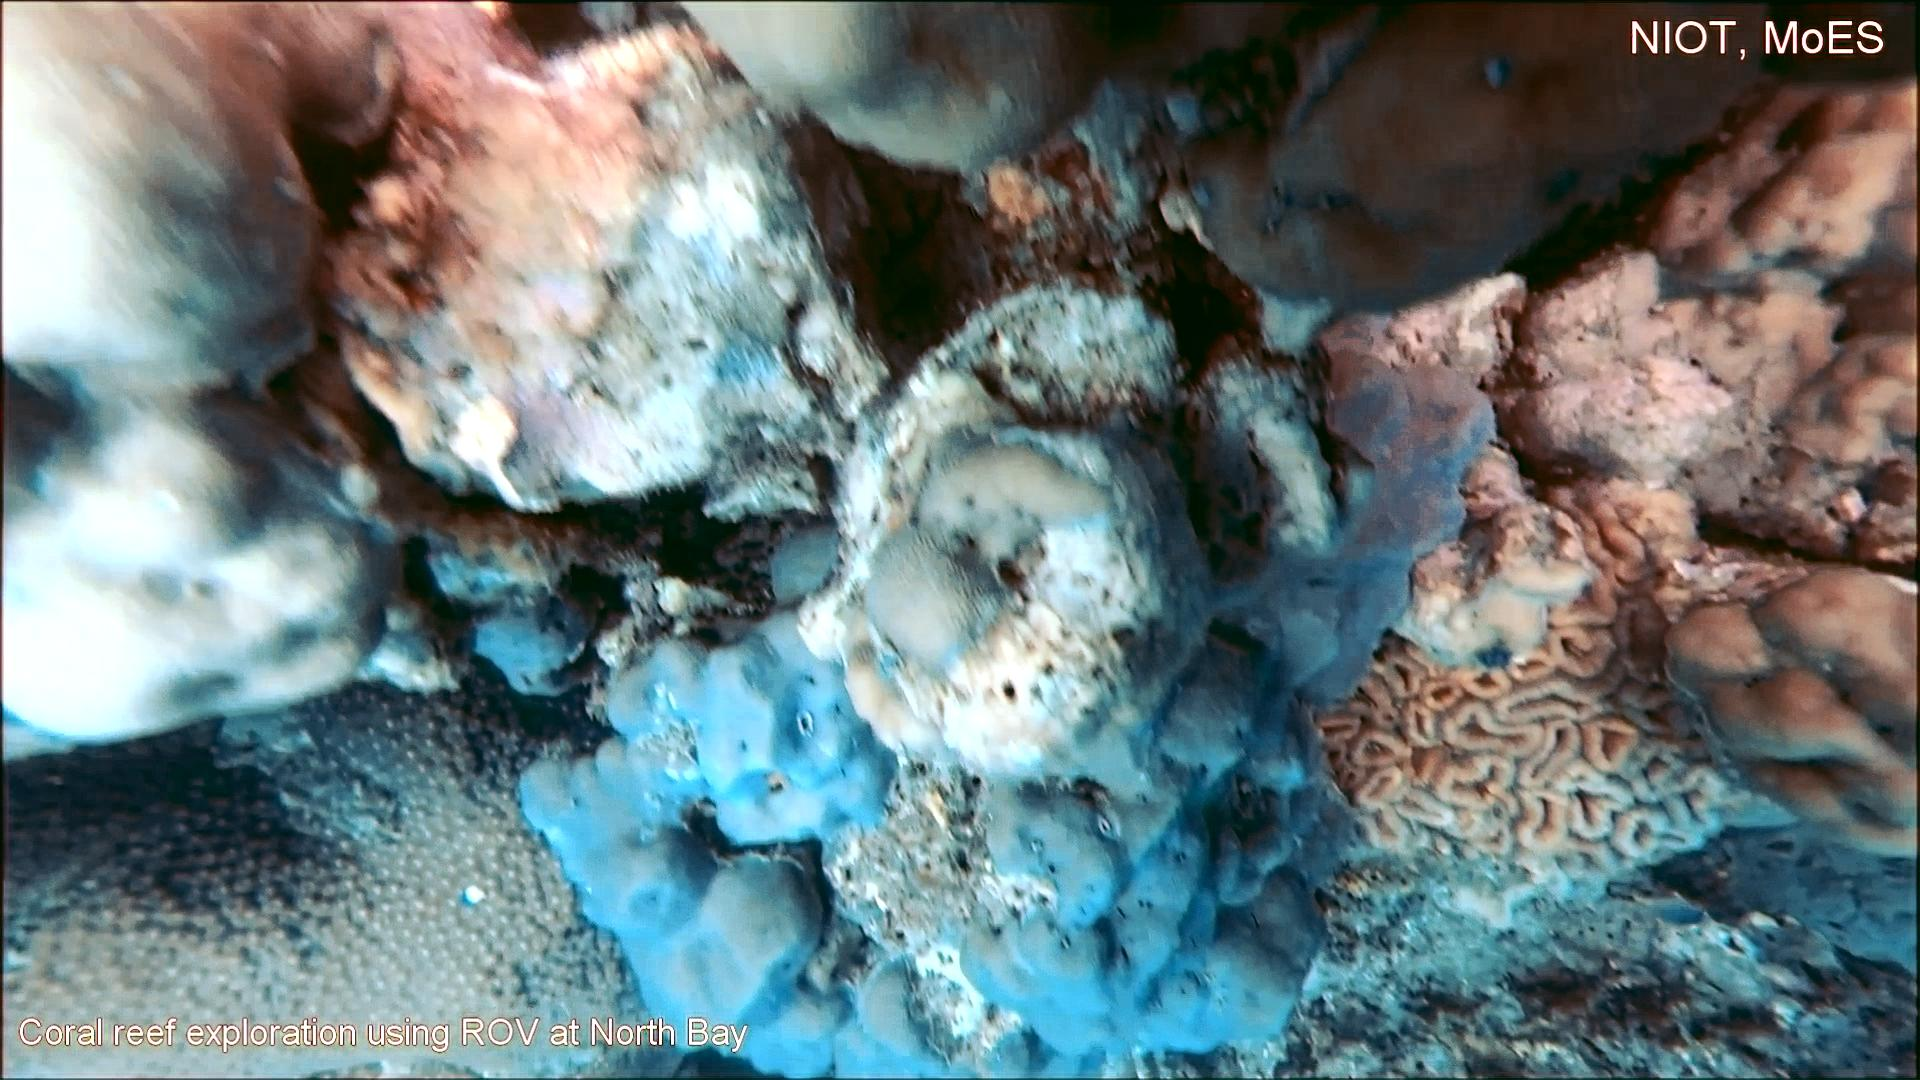Lobophyllia: (1305, 491, 1758, 897)
